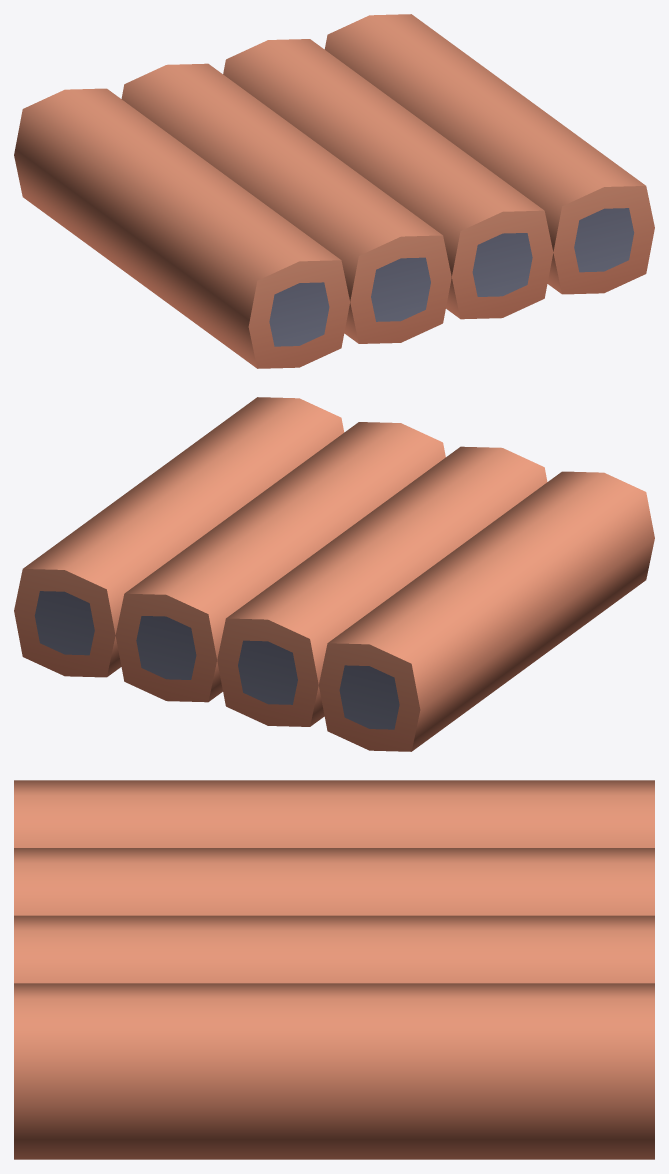
File: conveyor-bars.obj
The picture shows the model from 3 angles, top to bottom: view 1: azimuth 30°, elevation 25°; view 2: azimuth 150°, elevation 25°; view 3: azimuth 270°, elevation 25°; orthographic projection. The views are drawn at different scales.
Visible parts, largest first — view 1: conveyor-bars; view 2: conveyor-bars; view 3: conveyor-bars.
Boxes of the visible parts, left/top/right/bottom form: conveyor-bars: left=14, top=14, right=654, bottom=368; conveyor-bars: left=14, top=397, right=654, bottom=751; conveyor-bars: left=14, top=780, right=654, bottom=1159.
Bounding box in the file's own units: 1 × 0.25 × 1.
